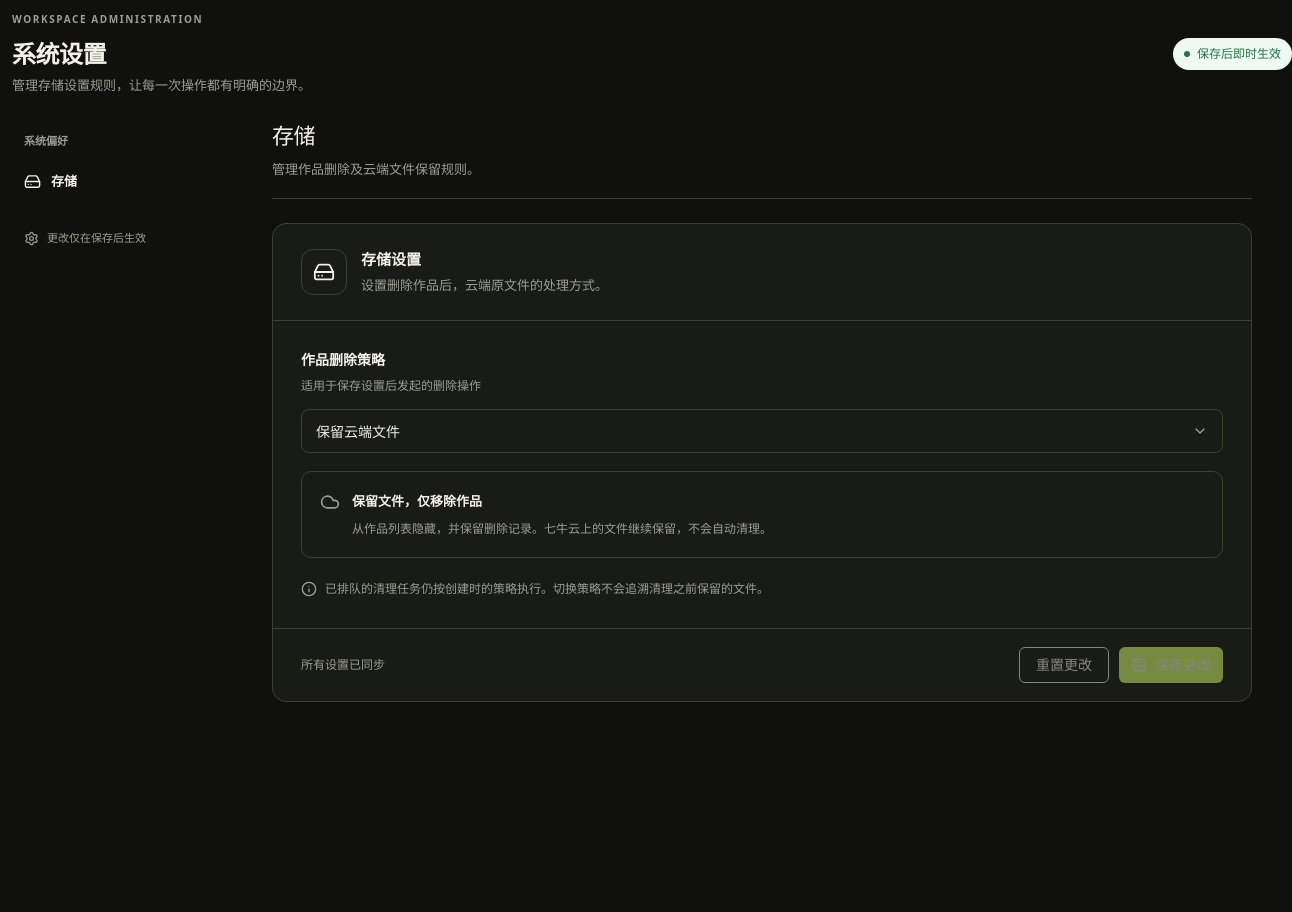
Test: resets edits and saves selected policy with its revision
Check: the button "保存更改" is disabled, box 1119,647 -> 1223,683
Click the button named "作品删除策略". click: (358, 431)
box: 301,409 -> 1223,453
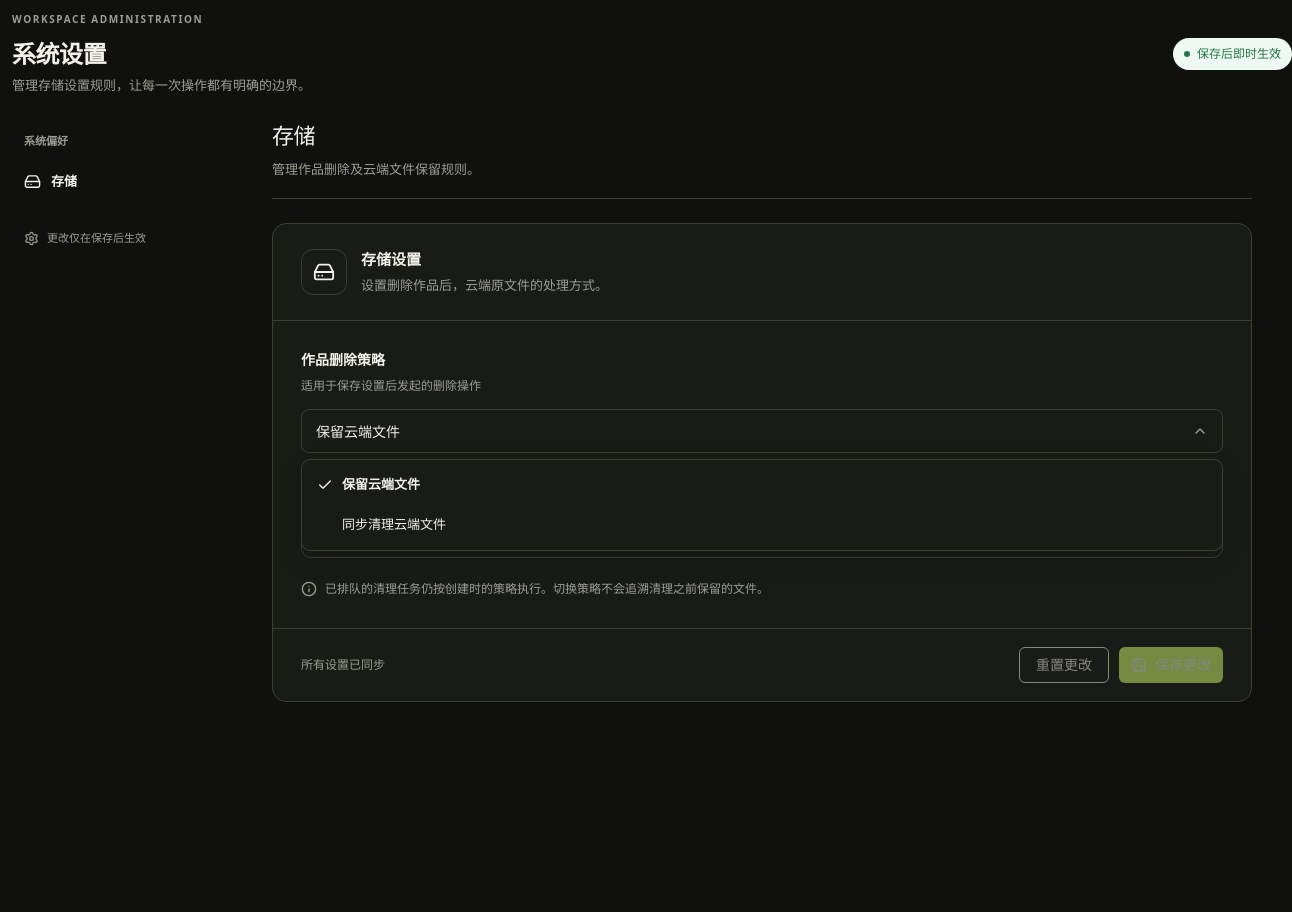
Click the menu item "同步清理云端文件". click: (394, 524)
box: 342,515 -> 446,533
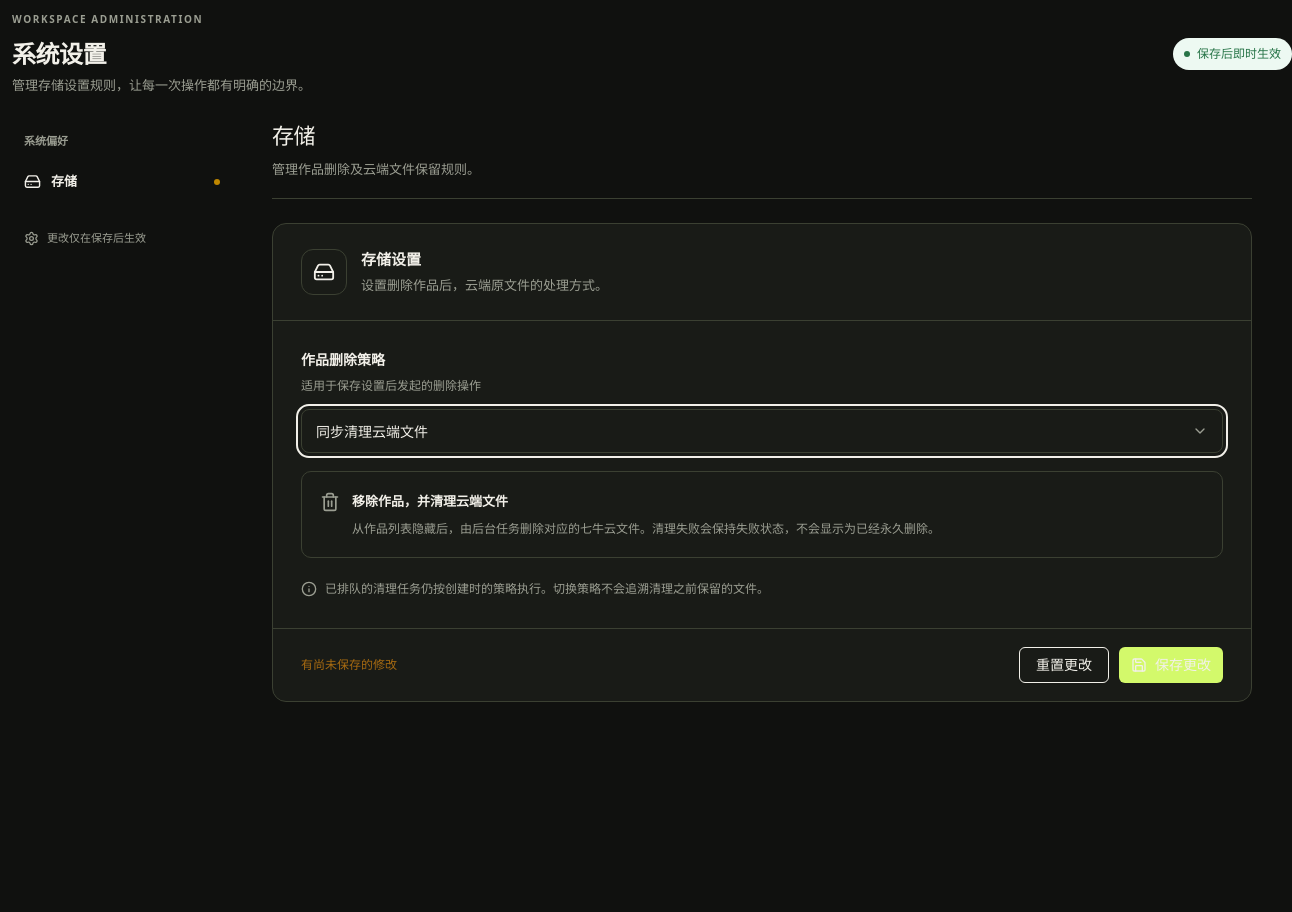
Click the button "重置更改". click: (1064, 665)
box: 1019,647 -> 1109,683
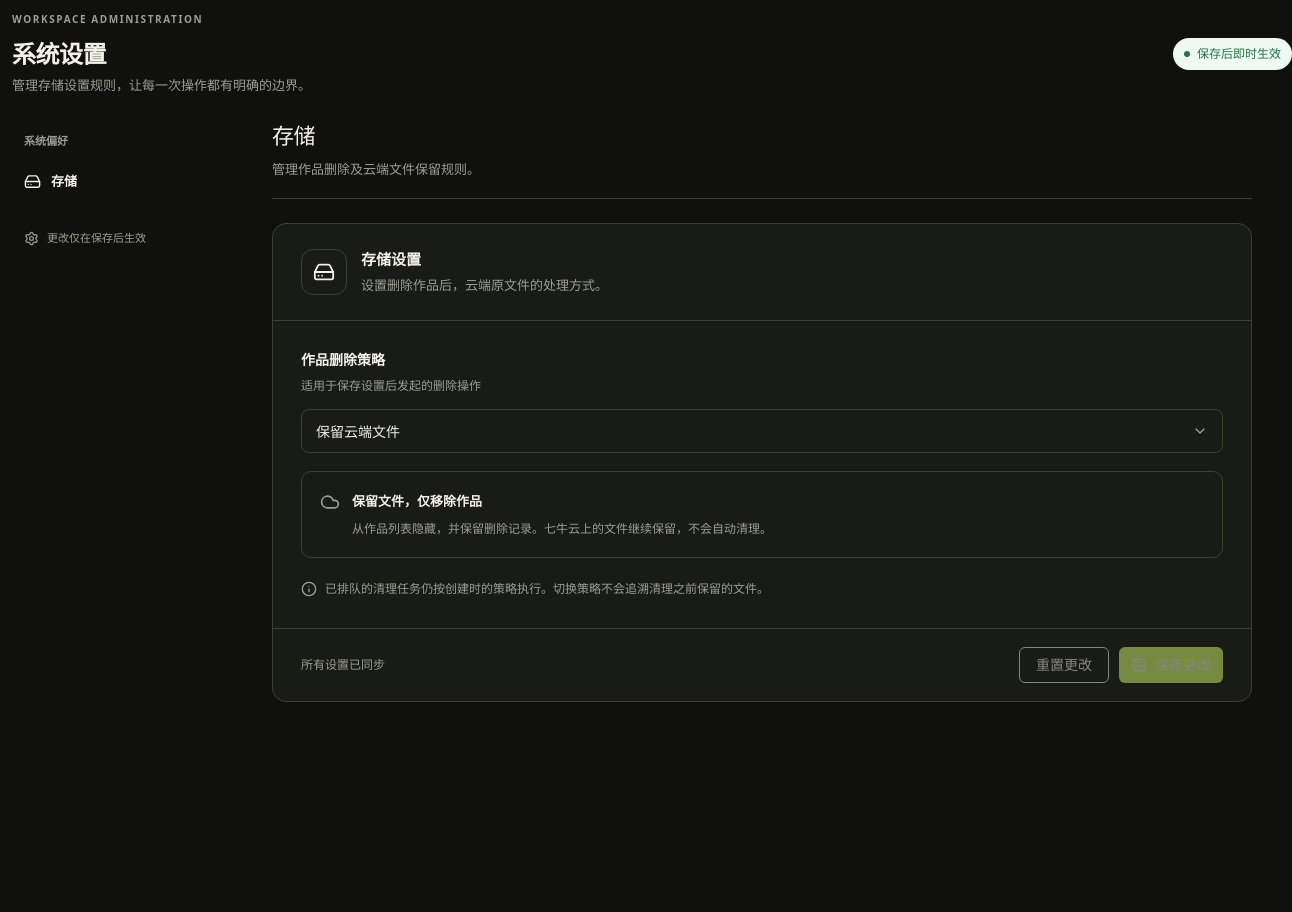
Check: the button named "作品删除策略" reads "保留云端文件"
Click the button named "作品删除策略". click: (358, 431)
box: 301,409 -> 1223,453
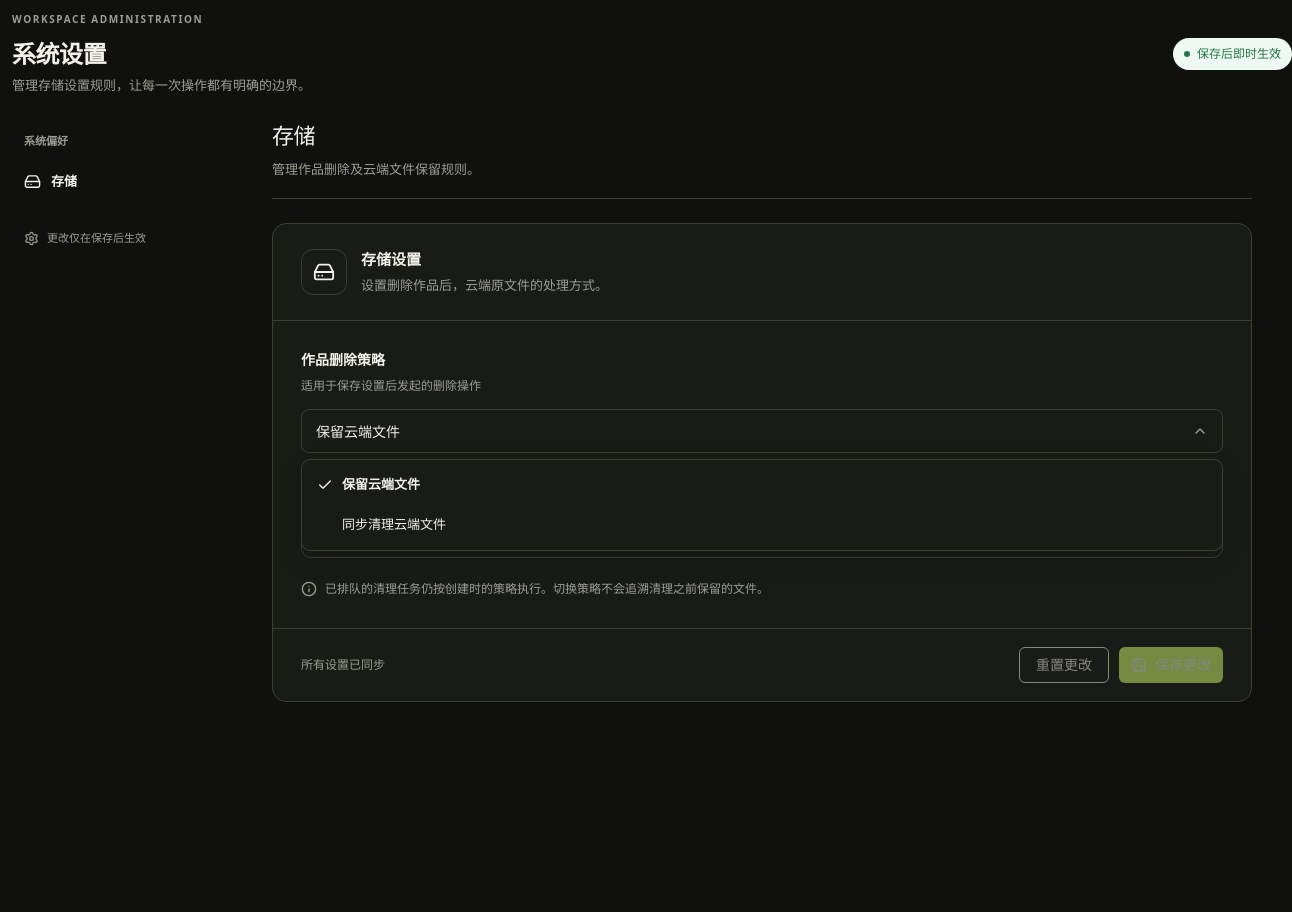
Click the menu item "同步清理云端文件". click: (394, 524)
box: 342,515 -> 446,533
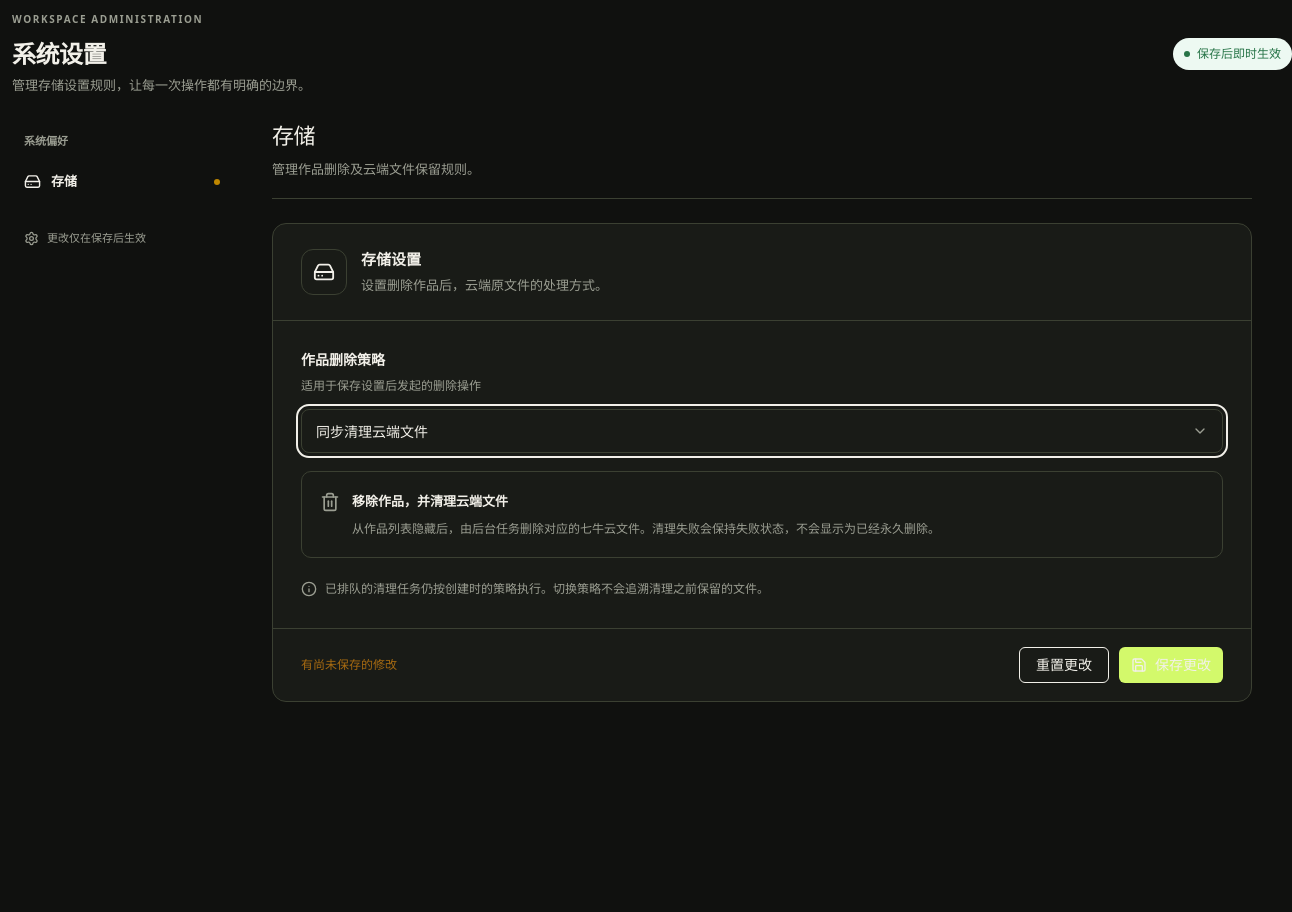
Click the button "保存更改". click: (1171, 665)
box: 1119,647 -> 1223,683
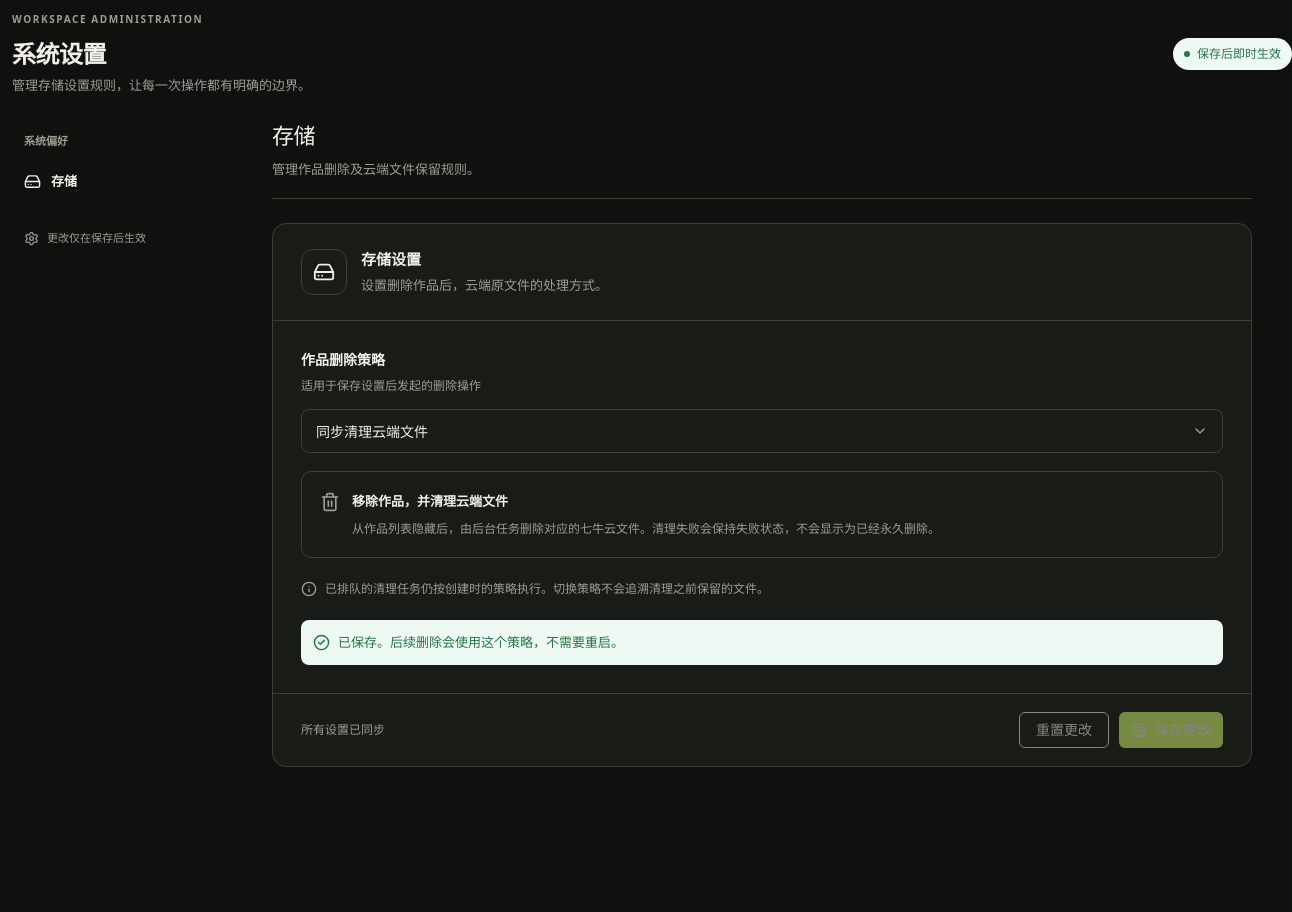
Check: the button named "作品删除策略" reads "同步清理云端文件", box 301,409 -> 1223,453
Check: the button "保存更改" is disabled, box 1119,712 -> 1223,748
